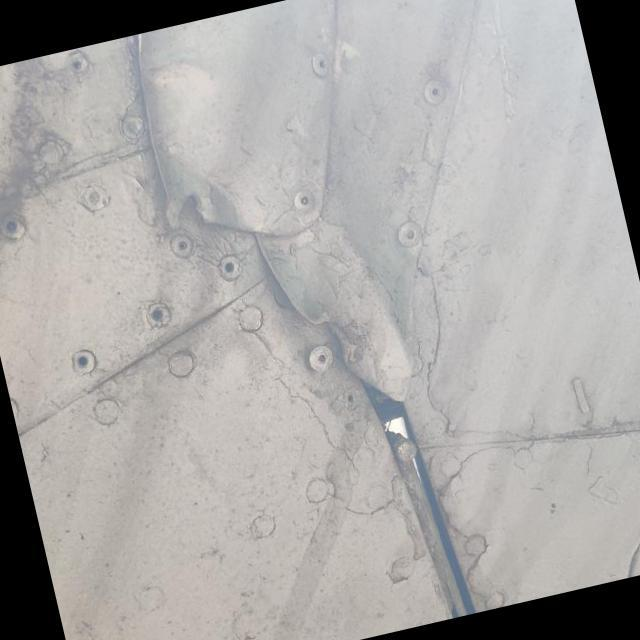Rupture: (314, 306, 374, 382)
